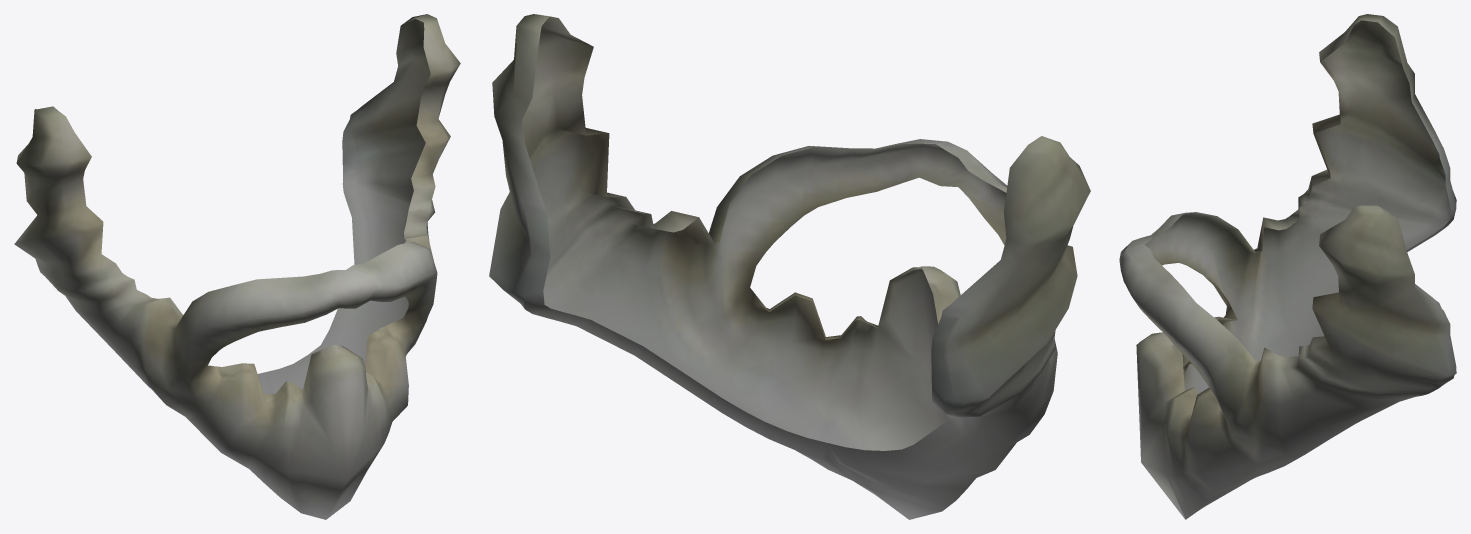
File: hair-beard.glb
3 views of the same model, side by side, from view 1: azimuth 30°, elevation 25°; view 2: azimuth 150°, elevation 25°; view 3: azimuth 270°, elevation 25° (orthographic). The views are drawn at different scales.
Visible parts, largest first — view 1: Hair_Beard; view 2: Hair_Beard; view 3: Hair_Beard.
Part boxes in pixels (bbox=[...]): Hair_Beard: bbox=[14, 14, 460, 519]; Hair_Beard: bbox=[489, 14, 1090, 519]; Hair_Beard: bbox=[1119, 14, 1456, 519].
Bounding box in the file's own units: 0.1615 × 0.1398 × 0.1049.
Materials: 1 (1 with a texture image).
